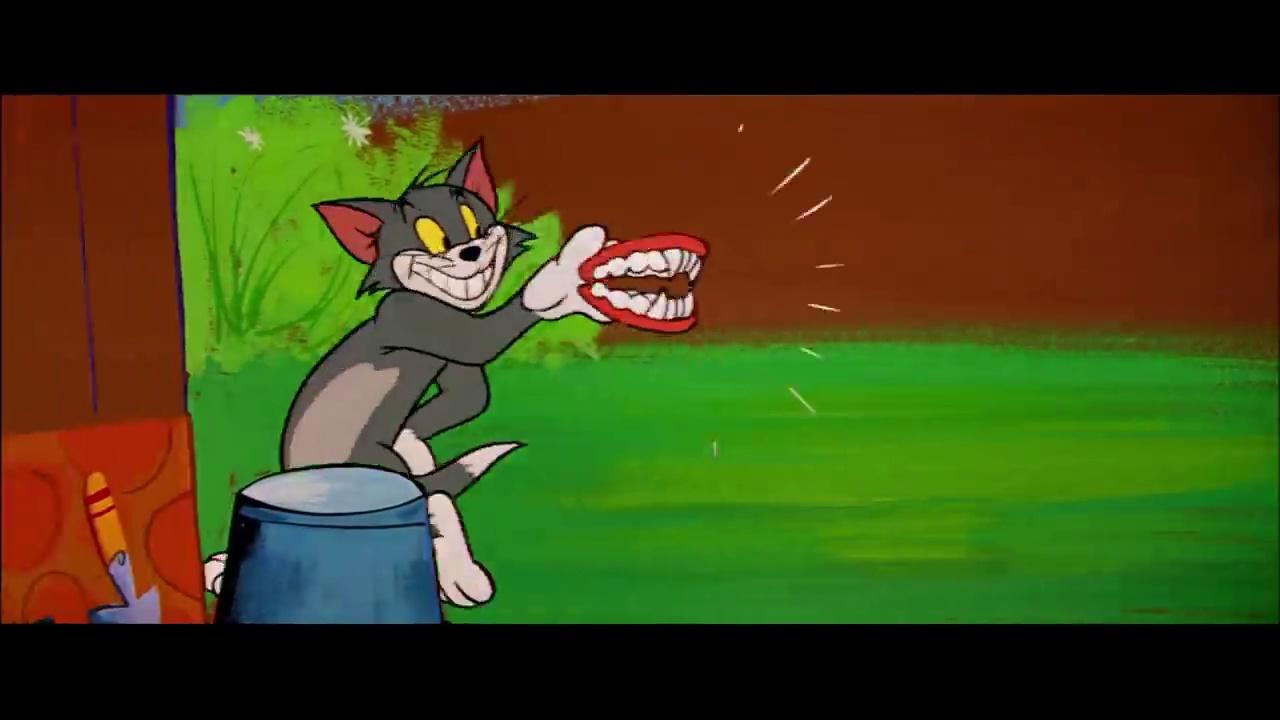Tom: (203, 128, 619, 609)
